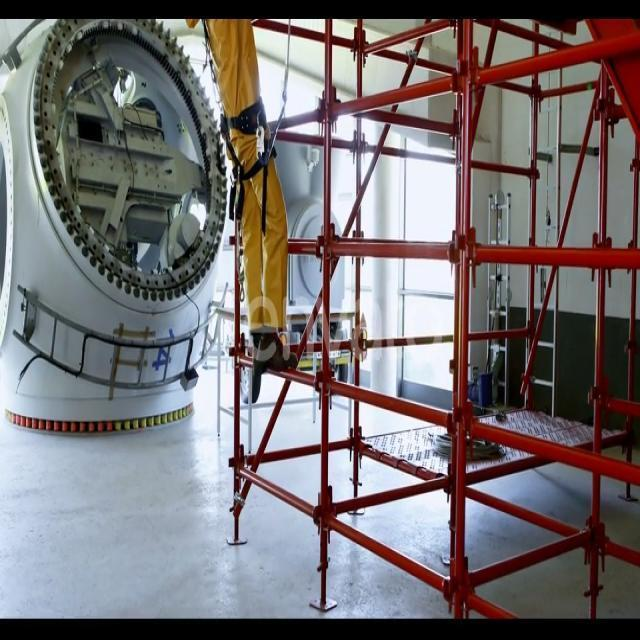Harness: (221, 98, 276, 232)
